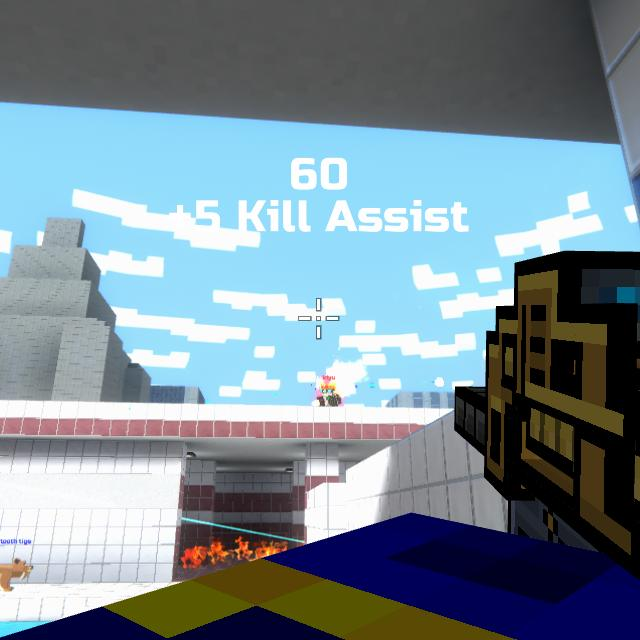Enemy: (315, 381, 341, 406)
